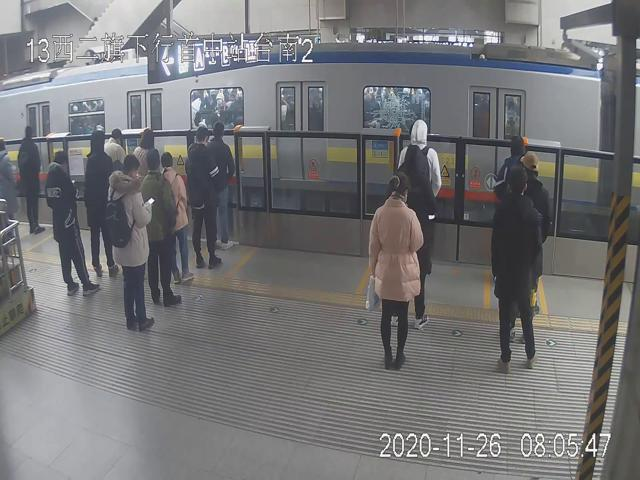person: (491, 163, 543, 372), (369, 170, 423, 368), (106, 154, 155, 331), (45, 151, 100, 297), (141, 148, 182, 307), (83, 128, 118, 276), (186, 128, 221, 269), (159, 151, 195, 283), (211, 119, 236, 249), (18, 123, 46, 233)
